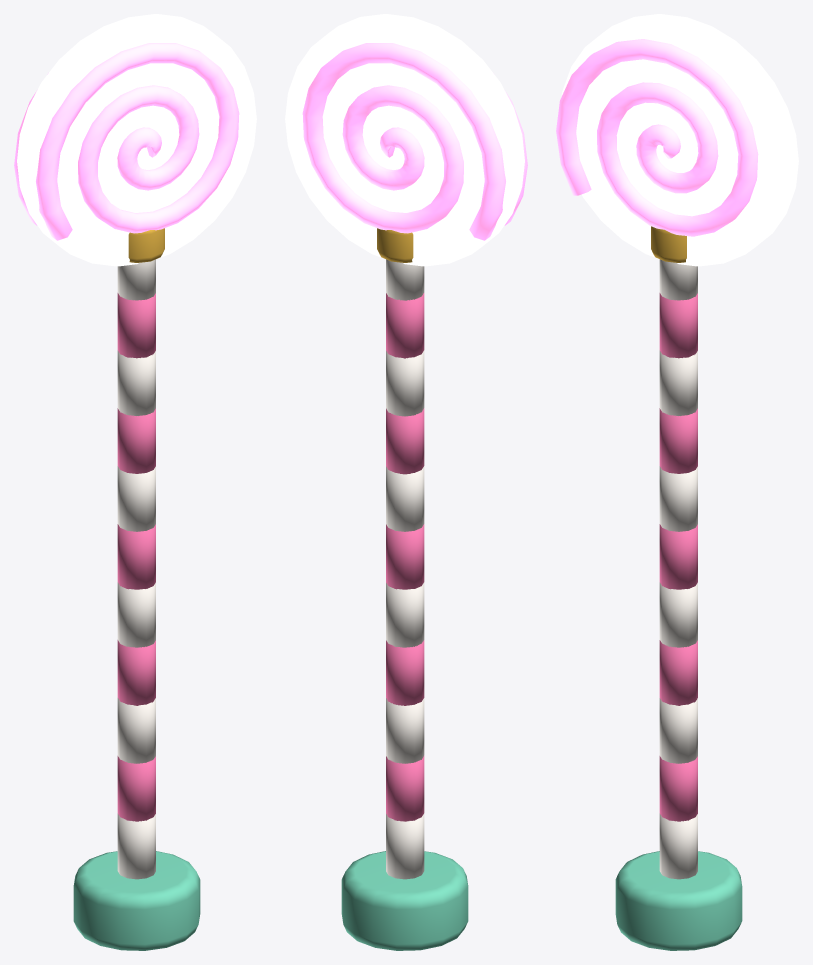
The model's file is candy_lamp.glb.
3 renders of one model, left to right at view 1: azimuth 30°, elevation 25°; view 2: azimuth 150°, elevation 25°; view 3: azimuth 330°, elevation 25°, orthographic.
Parts seen in each view (by area): view 1: Lamp; view 2: Lamp; view 3: Lamp.
Boxes of the visible parts, x1,y1,x2,y2 form: Lamp: (14, 14, 256, 950); Lamp: (285, 14, 527, 950); Lamp: (556, 14, 798, 950).
Bounding box in the file's own units: 1.24 × 4.71 × 0.6.
